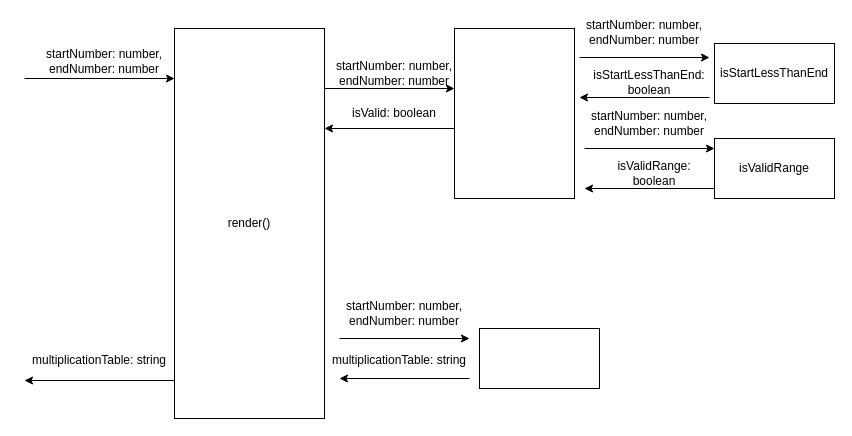
This 852x436 diagram has some shape labels left out. The shapes that lost their labels are listed below. From the top down, each one's centre as x and y in pixels, then its label:
At [514,113]: "isValid".
At [539,358]: "getMultiplicationTable".
